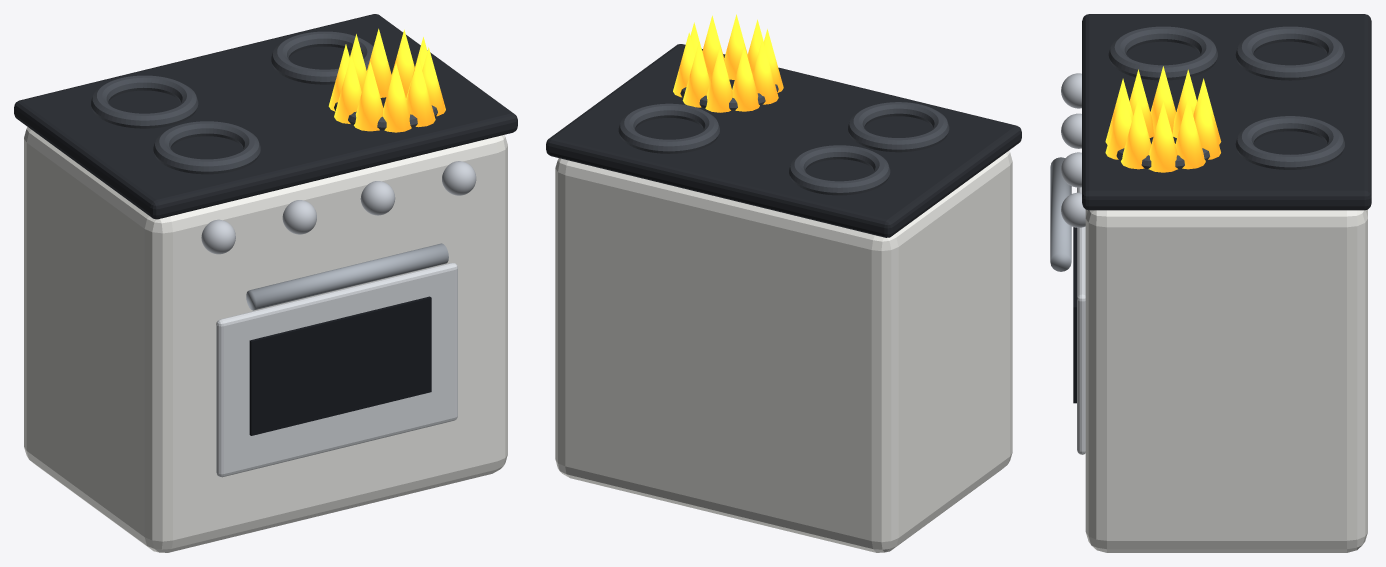
File: estufa.glb
3 renders of one model, left to right at view 1: azimuth 30°, elevation 25°; view 2: azimuth 150°, elevation 25°; view 3: azimuth 270°, elevation 25°, orthographic. The views are drawn at different scales.
Visible parts, largest first — view 1: Cube, Cube.001, Cube.002, Cube.003, Cylinder, Torus.002, Torus, Torus.003, Cone.007, Cone.006, Cone.008, Cone.005 (+7 smaller); view 2: Cube, Cube.001, Torus, Torus.003, Torus.002, Cone.003, Cone.004, Cone.002, Cone.005, Cone.008, Cone.001, Cone.009; view 3: Cube, Cube.001, Torus.003, Torus.002, Torus, Cube.002, Cylinder, Cone, Cone.001, Cone.009, Cone.008, Cone.002 (+8 smaller).
Part boxes in pixels (x1=…): Cube: x1=24, y1=127, x2=507, y2=552; Cube.001: x1=14, y1=14, x2=517, y2=219; Cube.002: x1=216, y1=263, x2=457, y2=477; Cube.003: x1=249, y1=296, x2=431, y2=435; Cylinder: x1=246, y1=243, x2=448, y2=310; Torus.002: x1=91, y1=75, x2=198, y2=128; Torus: x1=153, y1=121, x2=260, y2=174; Torus.003: x1=271, y1=31, x2=373, y2=84; Cone.007: x1=383, y1=63, x2=411, y2=132; Cone.006: x1=354, y1=61, x2=383, y2=131; Cone.008: x1=406, y1=57, x2=435, y2=127; Cone.005: x1=334, y1=54, x2=361, y2=123; Cube: x1=555, y1=151, x2=1012, y2=552; Cube.001: x1=546, y1=44, x2=1021, y2=237; Torus: x1=848, y1=102, x2=949, y2=152; Torus.003: x1=618, y1=103, x2=719, y2=153; Torus.002: x1=789, y1=145, x2=890, y2=195; Cone.003: x1=705, y1=47, x2=732, y2=112; Cone.004: x1=732, y1=46, x2=759, y2=111; Cone.002: x1=682, y1=42, x2=710, y2=107; Cone.005: x1=752, y1=39, x2=778, y2=104; Cone.008: x1=724, y1=14, x2=747, y2=79; Cone.001: x1=673, y1=32, x2=695, y2=97; Cone.009: x1=702, y1=15, x2=724, y2=80; Cube: x1=1085, y1=209, x2=1367, y2=552; Cube.001: x1=1082, y1=14, x2=1371, y2=210; Torus.003: x1=1235, y1=116, x2=1344, y2=169; Torus.002: x1=1235, y1=26, x2=1344, y2=80; Torus: x1=1108, y1=26, x2=1217, y2=80; Cube.002: x1=1077, y1=187, x2=1085, y2=454; Cylinder: x1=1050, y1=157, x2=1071, y2=271; Cone: x1=1148, y1=102, x2=1177, y2=172; Cone.001: x1=1175, y1=98, x2=1205, y2=169; Cone.009: x1=1121, y1=98, x2=1151, y2=169; Cone.008: x1=1105, y1=89, x2=1131, y2=159; Cone.002: x1=1194, y1=89, x2=1220, y2=159.
Size of the model in its own units: 1.22 by 1.35 by 0.91.
